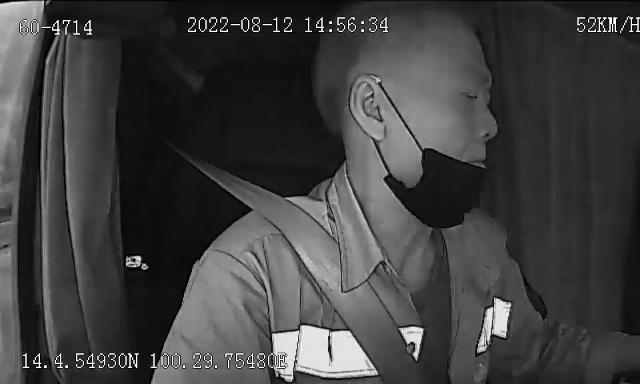Seatbelt: (201, 164, 433, 384)
